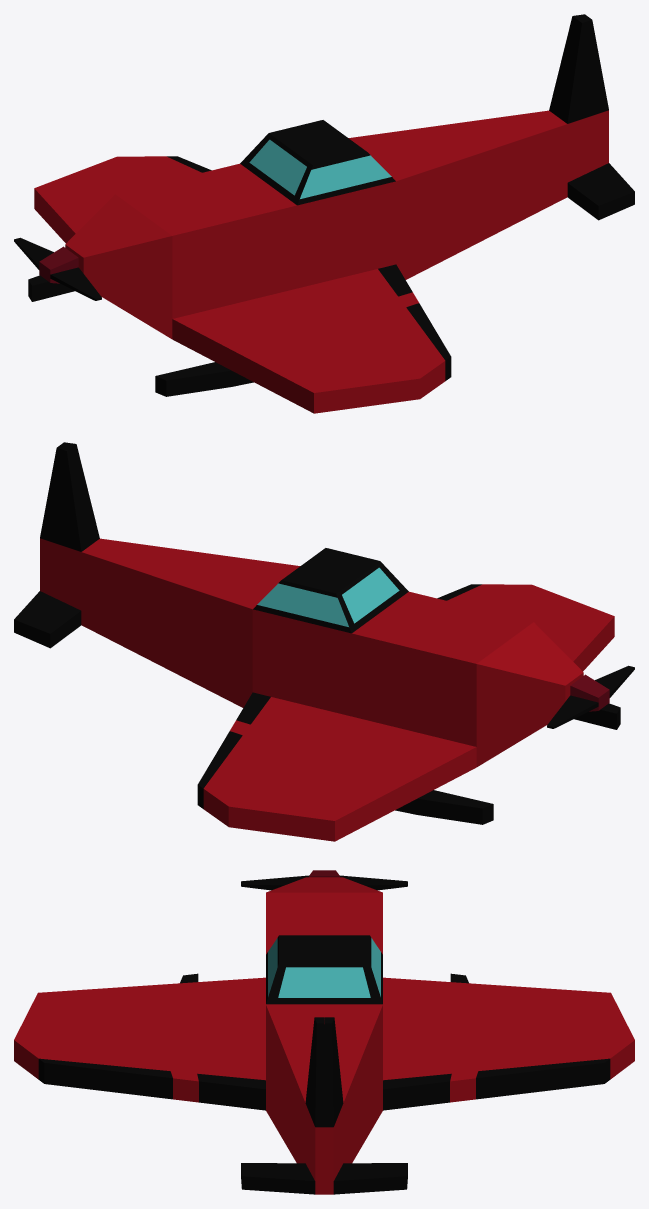
File: PlaneWw2.fbx
3 renders of one model, top to bottom at view 1: azimuth 30°, elevation 25°; view 2: azimuth 150°, elevation 25°; view 3: azimuth 270°, elevation 25°, orthographic. The views are drawn at different scales.
Parts seen in each view (by area): view 1: Cube, Cube.001; view 2: Cube, Cube.001; view 3: Cube, Cube.001.
Boxes of the visible parts, box(x1,y1,x2,y2) form: Cube: box(28, 14, 634, 413); Cube.001: box(14, 237, 101, 300); Cube: box(14, 442, 620, 841); Cube.001: box(547, 665, 634, 728); Cube: box(14, 877, 634, 1194); Cube.001: box(241, 870, 407, 890).
Bounding box in the file's own units: 1130 × 404 × 1060.
